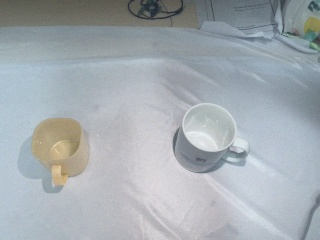cup: (173, 102, 240, 175), (30, 117, 92, 191)
